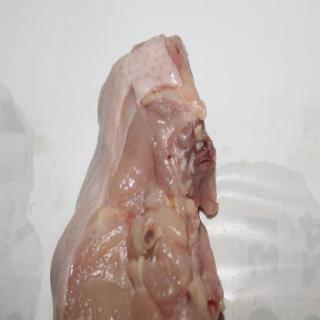Ayam: (52, 36, 224, 320)
